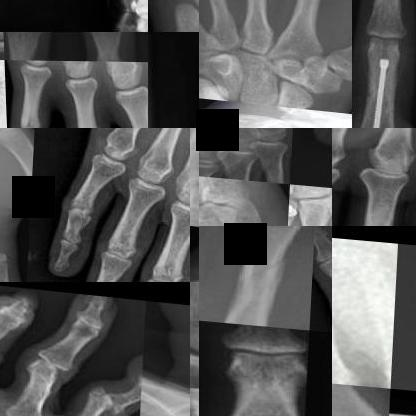fracture: (220, 240, 293, 318), (365, 41, 409, 127), (83, 373, 127, 415), (289, 198, 309, 225), (136, 367, 143, 391)
